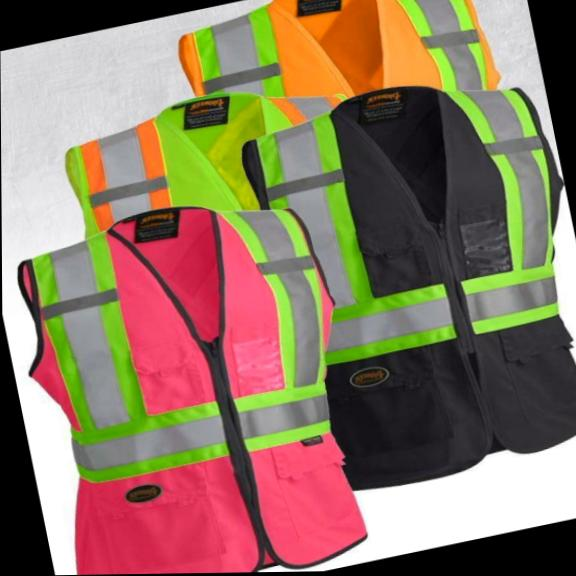safety_vest: (231, 51, 576, 506), (1, 174, 387, 576), (53, 68, 370, 249), (171, 0, 504, 152)
